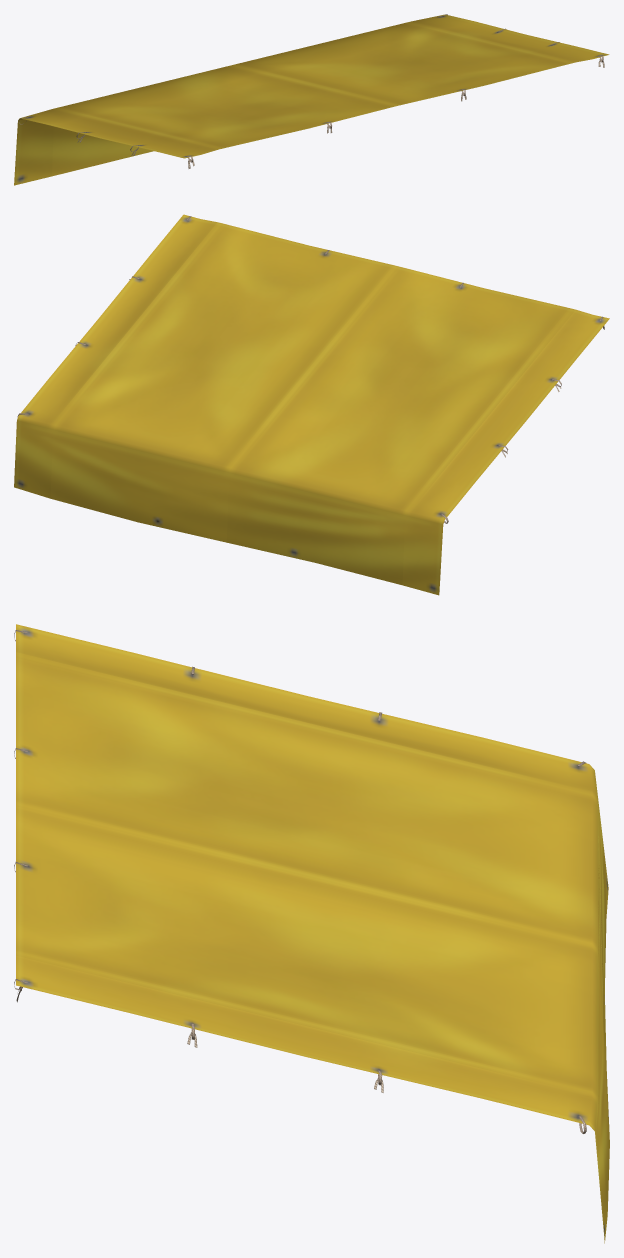
File: jsf_Ceiling_s03_c05_t01.fbx
3 views of the same model, one above another, from view 1: azimuth 30°, elevation 25°; view 2: azimuth 150°, elevation 25°; view 3: azimuth 270°, elevation 25° (orthographic). The views are drawn at different scales.
Visible parts, largest first — view 1: jsf_Ceiling_s03_c05_t01; view 2: jsf_Ceiling_s03_c05_t01; view 3: jsf_Ceiling_s03_c05_t01.
Boxes of the visible parts, x1,y1,x2,y2 form: jsf_Ceiling_s03_c05_t01: (14, 14, 609, 185); jsf_Ceiling_s03_c05_t01: (14, 214, 609, 595); jsf_Ceiling_s03_c05_t01: (14, 624, 609, 1243).
Bounding box in the file's own units: 315 × 106 × 216.
